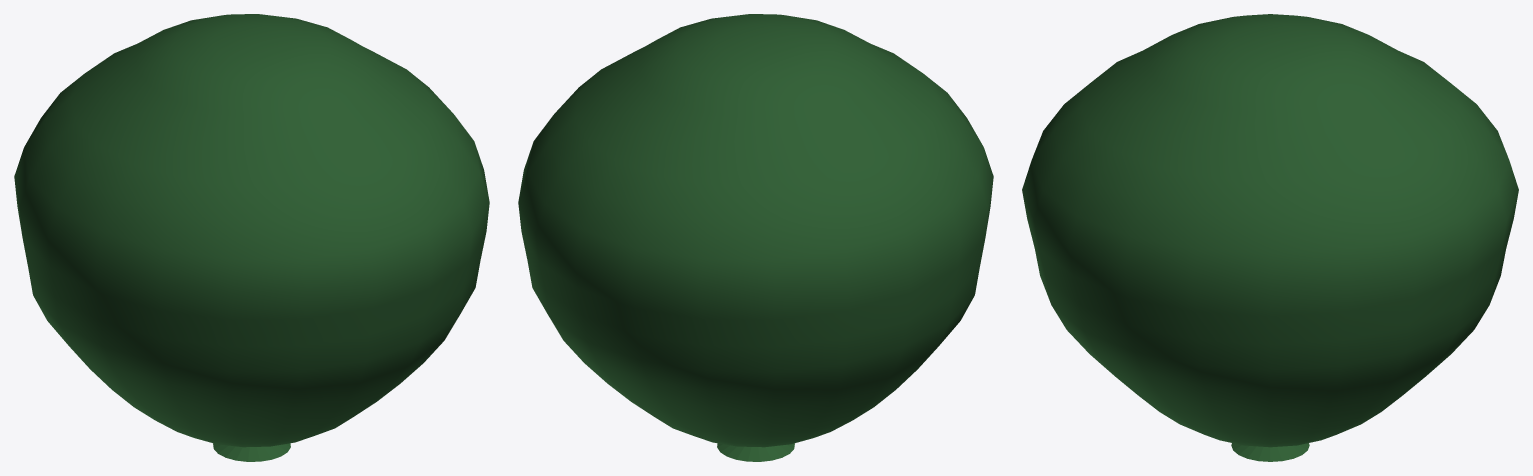
The model's file is Balloon1.fbx.
3 renders of one model, left to right at view 1: azimuth 30°, elevation 25°; view 2: azimuth 150°, elevation 25°; view 3: azimuth 270°, elevation 25°, orthographic.
Visible parts, largest first — view 1: pSphere1; view 2: pSphere1; view 3: pSphere1.
Part boxes in pixels (x1=…): pSphere1: x1=14, y1=14, x2=489, y2=461; pSphere1: x1=518, y1=14, x2=993, y2=461; pSphere1: x1=1022, y1=14, x2=1518, y2=461.
Bounding box in the file's own units: 0.0247 × 0.0236 × 0.026.
